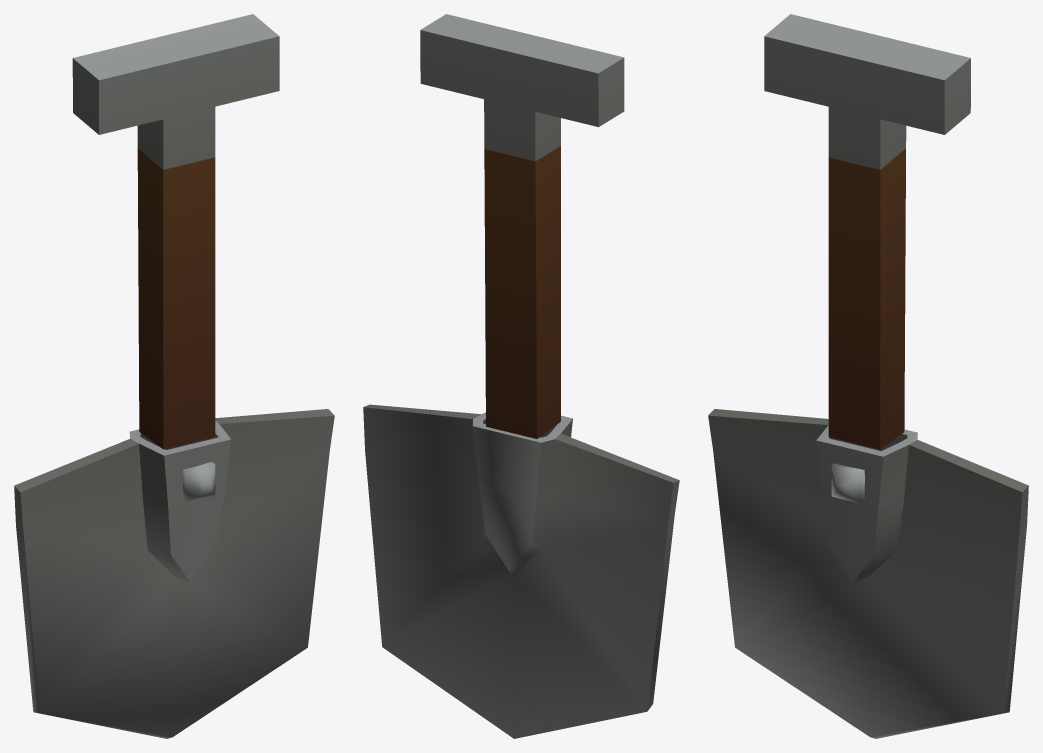
File: showel.fbx
3 renders of one model, left to right at view 1: azimuth 30°, elevation 25°; view 2: azimuth 150°, elevation 25°; view 3: azimuth 330°, elevation 25°, orthographic.
Parts seen in each view (by area): view 1: shovel; view 2: shovel; view 3: shovel.
Part boxes in pixels (x1,y1,x2,y2): shovel: (14,14,334,738); shovel: (363,14,679,738); shovel: (708,14,1028,738).
Bounding box in the file's own units: 0.4626 × 0.984 × 0.1089.
